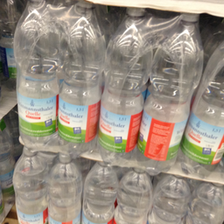water: (140, 14, 202, 172), (99, 8, 151, 167), (59, 2, 104, 159), (14, 1, 60, 147), (44, 150, 83, 224), (11, 150, 49, 224), (82, 157, 120, 224), (149, 172, 194, 224), (115, 166, 153, 224)
